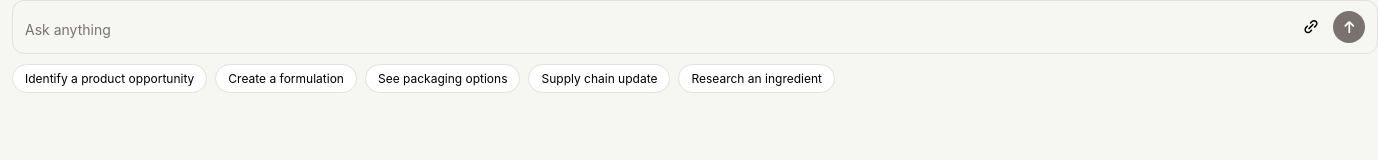
Test case: ChatInput › basic input › hides suggestion chips when user types
Step 1. Type "hello" into the text box with placeholder "Ask anything" → (657, 31), box x1=25 y1=19 x2=1289 y2=43
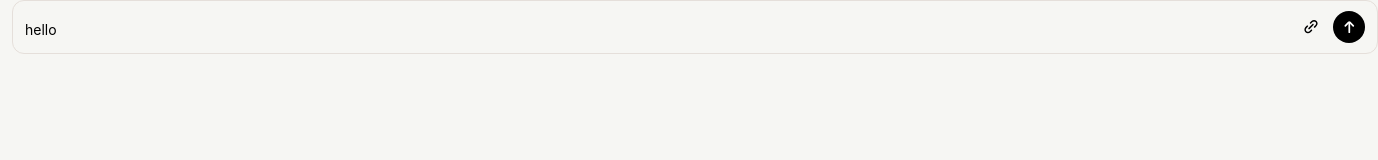
Now the button "Identify a product opportunity" is gone
